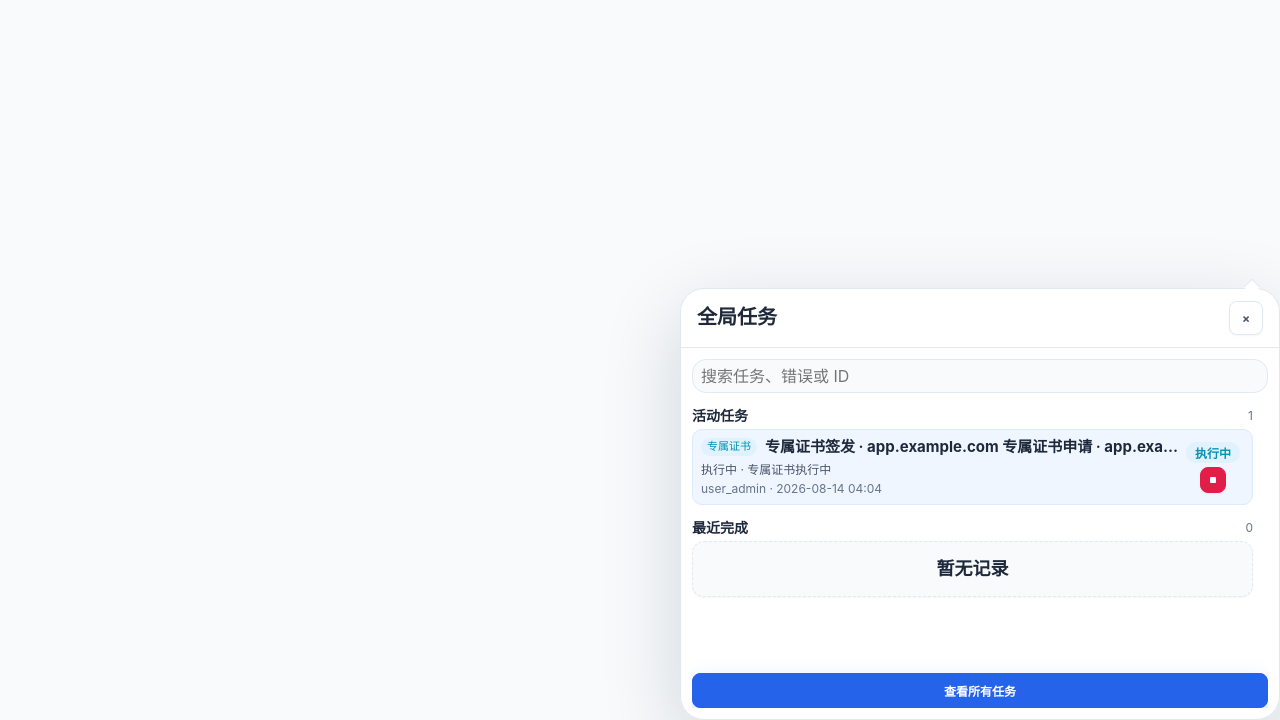
Scenario: TaskDrawer ACME 任务展示 › 专属 ACME 首次签发不再归类为其他任务，并显示申请名称和应用域名
The width and height of the screenshot is (1280, 720).
(page scrolled)
Expected: the text with class "task-drawer__item-type" reads "专属证书", left=707, top=439, right=751, bottom=453
Expected: the text with class "task-drawer__item-title" shows "专属证书签发", left=765, top=437, right=1236, bottom=456
Click the button with class "task-drawer__item-open". click: (729, 447)
box: left=693, top=430, right=1178, bottom=504
(page scrolled)
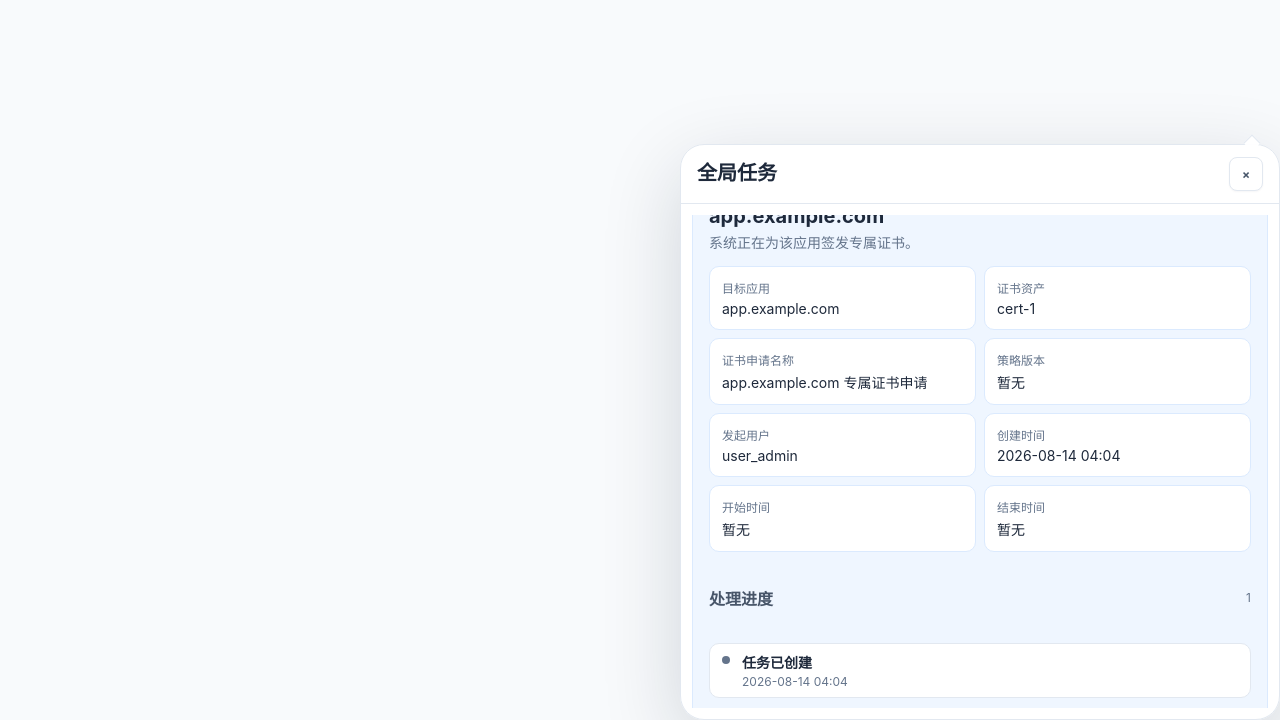
Result: the element with class "task-drawer__dedicated-detail" shows "app.example.com 专属证书申请" at left=722, top=374, right=927, bottom=391
